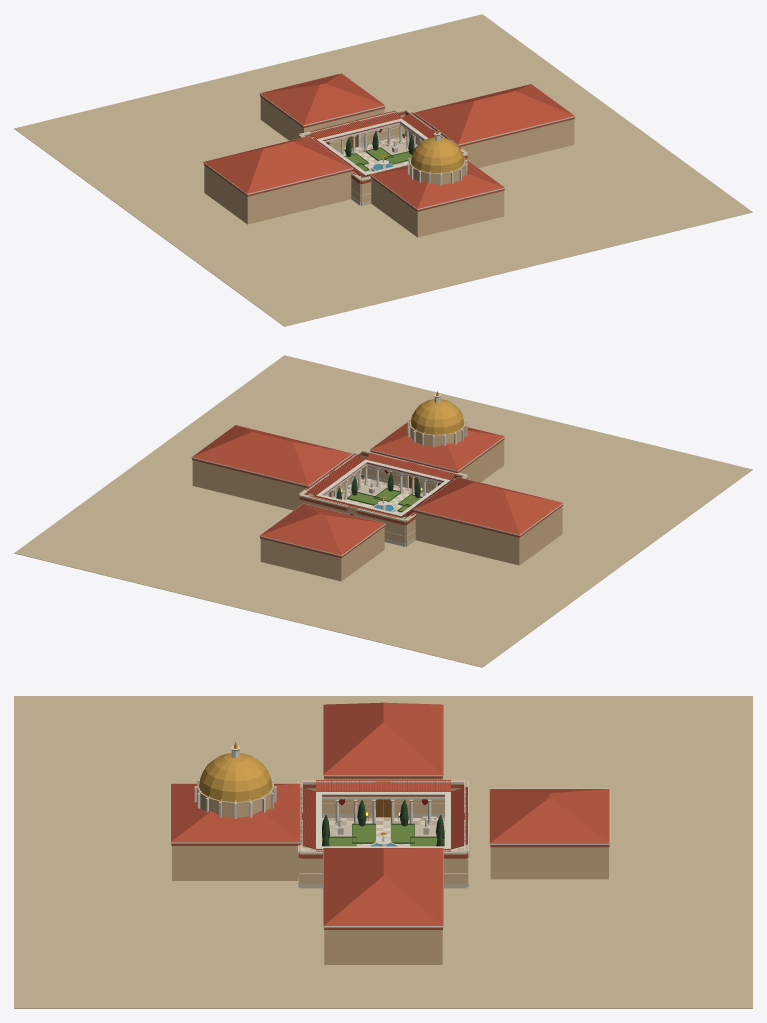
File: peristyle.glb
3 renders of one model, top to bottom at view 1: azimuth 30°, elevation 25°; view 2: azimuth 150°, elevation 25°; view 3: azimuth 270°, elevation 25°, orthographic. The views are drawn at different scales.
Parts seen in each view (by area): view 1: Ground, HipRoof.001, HipRoof.002, WingWall.002, HipRoof.003, WingWall, WingWall.001, HipRoof, Dome, WingWall.003, Roof.001, Drum; view 2: Ground, HipRoof.001, HipRoof.002, WingWall.002, HipRoof.003, WingWall.003, WingWall.001, HipRoof, Dome, WingWall, Roof, Wall.003 (+2 smaller); view 3: Ground, HipRoof.001, HipRoof.002, HipRoof.003, HipRoof, WingWall, WingWall.001, WingWall.003, Dome, Roof.002, Drum, Roof.001 (+7 smaller).
Boxes of the visible parts, <box> form: Ground: <box>14,14,752,326</box>; HipRoof.001: <box>414,84,574,144</box>; HipRoof.002: <box>204,136,352,193</box>; WingWall.002: <box>204,165,351,224</box>; HipRoof.003: <box>260,73,385,125</box>; WingWall: <box>371,178,504,237</box>; WingWall.001: <box>460,119,574,167</box>; HipRoof: <box>370,158,504,208</box>; Dome: <box>411,137,464,172</box>; WingWall.003: <box>260,97,384,140</box>; Roof.001: <box>310,110,400,139</box>; Drum: <box>409,158,465,184</box>; Ground: <box>14,355,752,667</box>; HipRoof.001: <box>192,425,352,485</box>; HipRoof.002: <box>414,477,562,534</box>; WingWall.002: <box>415,506,562,565</box>; HipRoof.003: <box>260,503,385,555</box>; WingWall.003: <box>260,527,384,581</box>; WingWall.001: <box>192,460,306,510</box>; HipRoof: <box>370,420,504,470</box>; Dome: <box>411,399,464,434</box>; WingWall: <box>459,440,504,482</box>; Roof: <box>366,452,455,480</box>; Wall.003: <box>357,508,405,546</box>; Ground: <box>14,696,752,1008</box>; HipRoof.001: <box>323,848,443,925</box>; HipRoof.002: <box>323,702,443,774</box>; HipRoof.003: <box>489,789,609,843</box>; HipRoof: <box>171,783,300,842</box>; WingWall: <box>172,846,298,880</box>; WingWall.001: <box>324,930,442,964</box>; WingWall.003: <box>490,847,608,879</box>; Dome: <box>199,753,272,801</box>; Roof.002: <box>316,780,450,791</box>; Drum: <box>197,780,274,817</box>; Roof.001: <box>451,787,467,848</box>.
Bounding box in the file's own units: 160 × 26.61 × 160.
